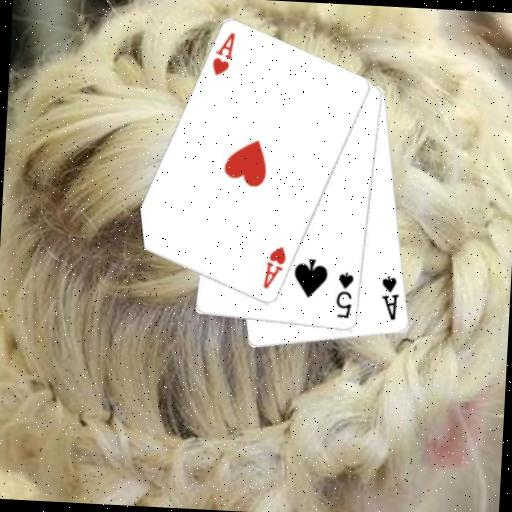5S: (333, 269, 357, 321)
AH: (209, 29, 238, 79), (260, 243, 289, 292)
AS: (377, 273, 403, 323)
